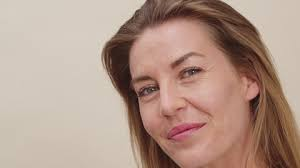white_female: (114, 1, 252, 168)
